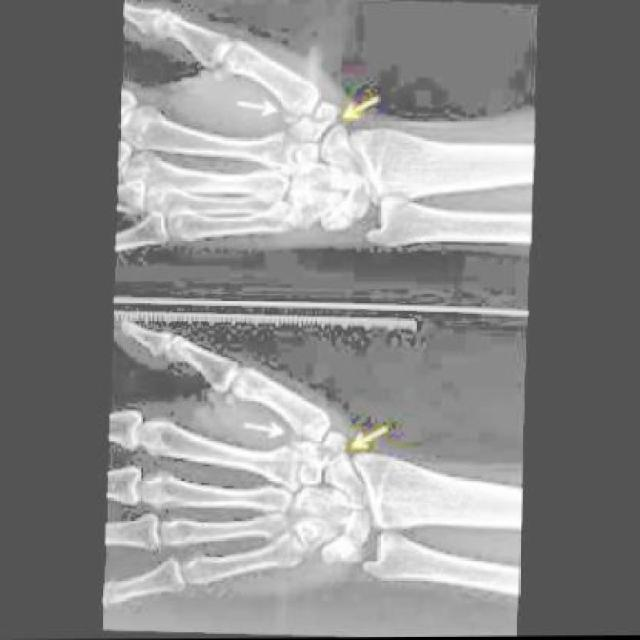Fracture: (308, 102, 347, 138), (318, 423, 351, 465), (271, 103, 307, 134), (285, 423, 324, 450)
